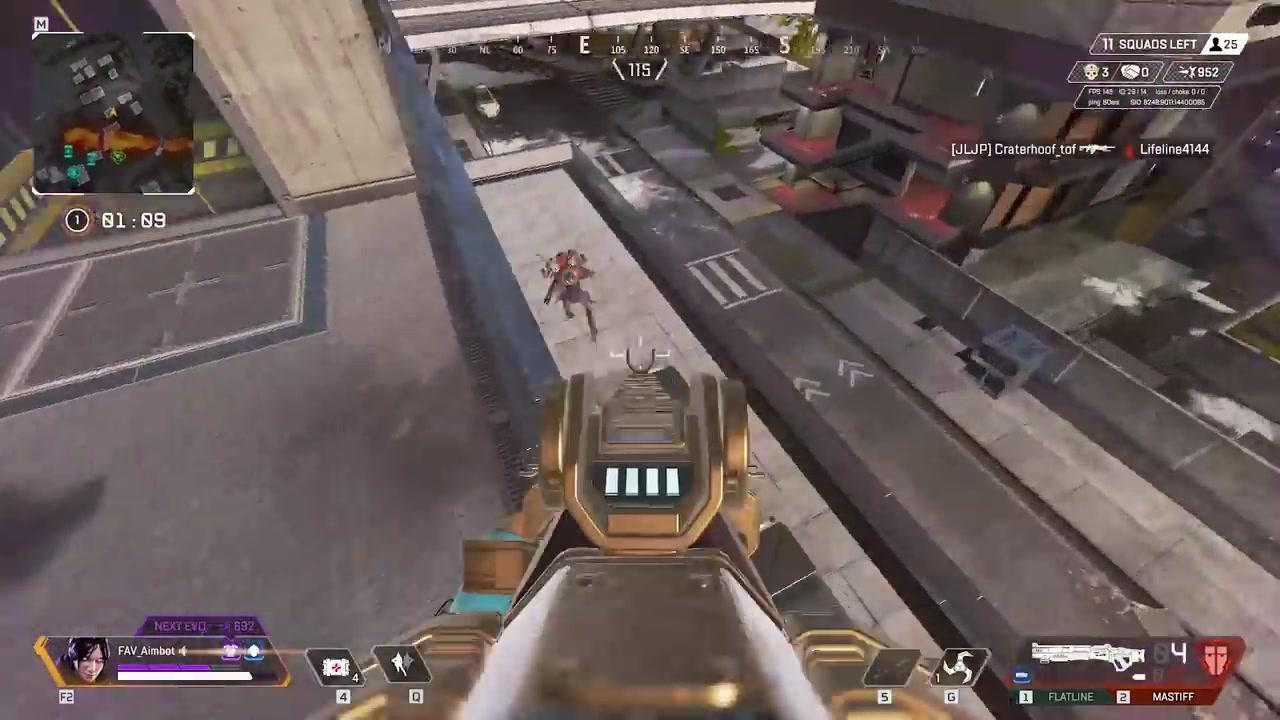avatar: (538, 245, 600, 344)
